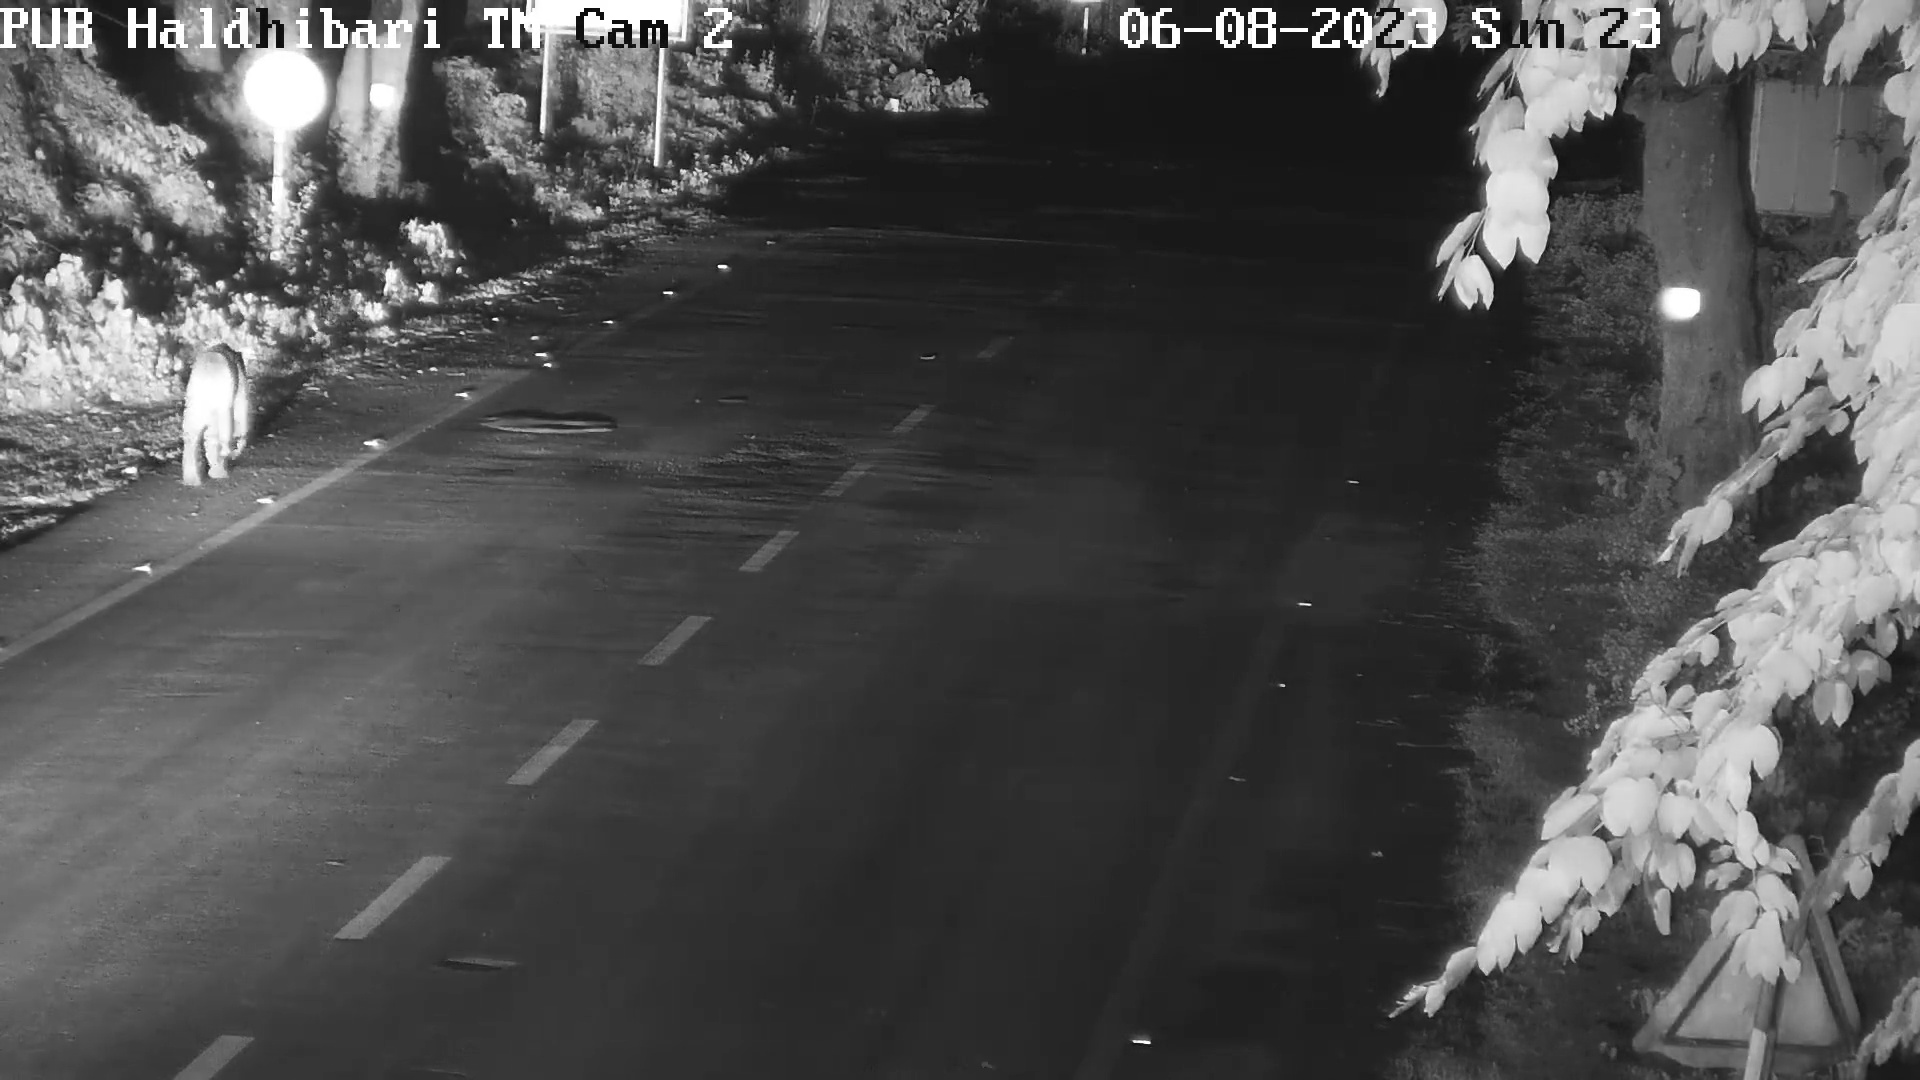tigers: (177, 315, 268, 495)
